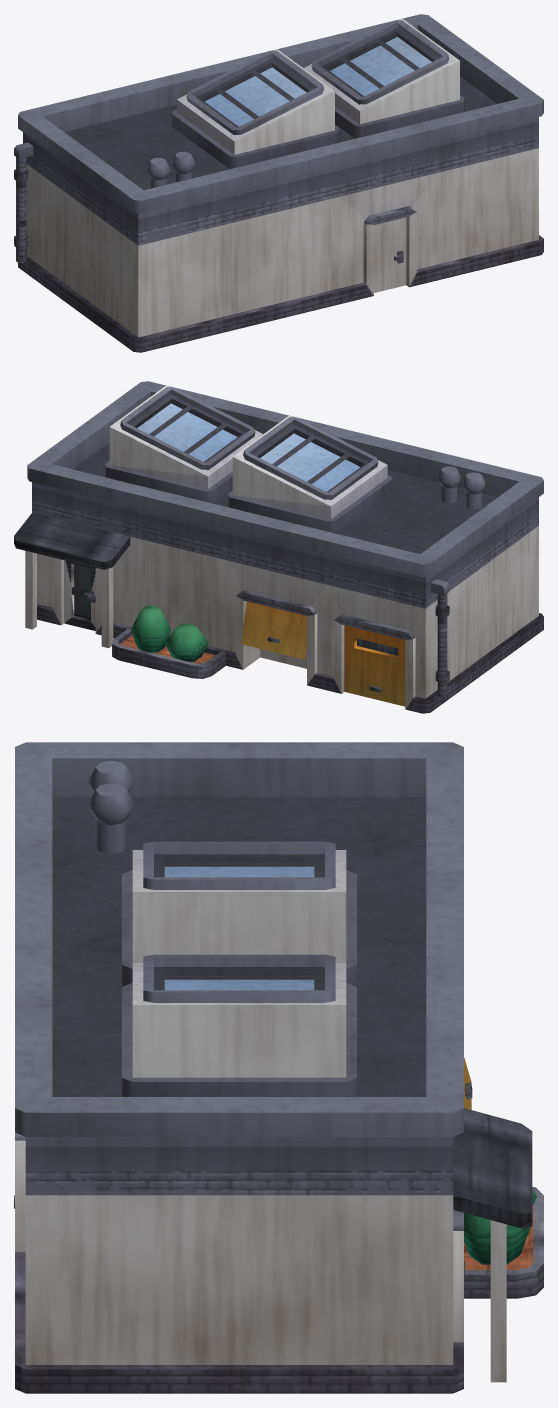
The model's file is building-p-white.glb.
The picture shows the model from 3 angles, top to bottom: view 1: azimuth 30°, elevation 25°; view 2: azimuth 150°, elevation 25°; view 3: azimuth 270°, elevation 25°; orthographic projection. The views are drawn at different scales.
Visible parts, largest first — view 1: building-p; view 2: building-p; view 3: building-p.
Part boxes in pixels (x1,y1,x2,y2): building-p: (14,14,543,352); building-p: (14,381,543,713); building-p: (14,742,543,1393).
Size of the model in its own units: 1.68 by 0.7146 by 0.992.
1 material, 1 textured.
